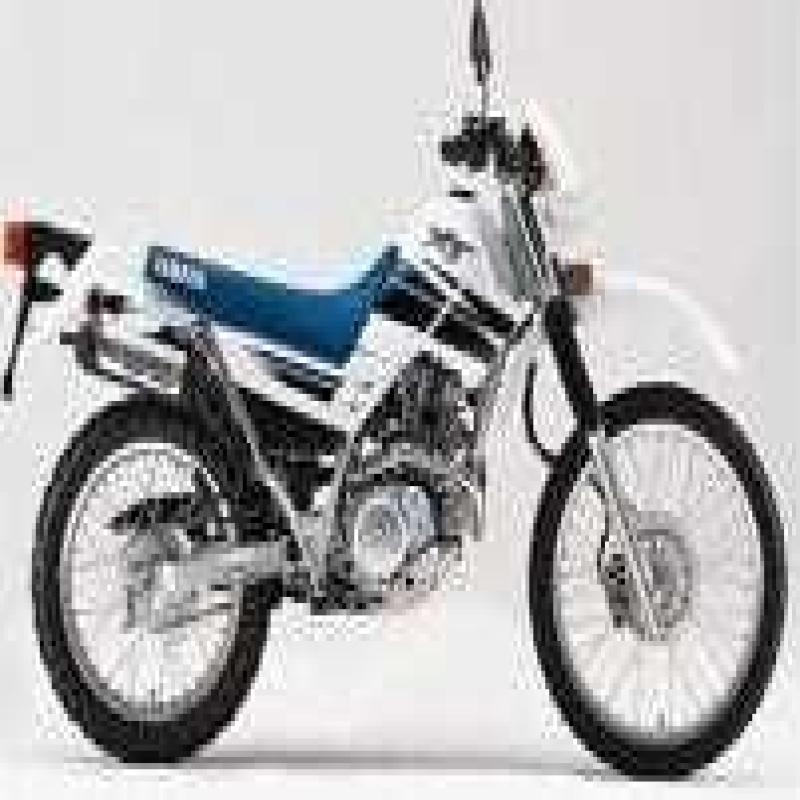bike: (0, 6, 776, 800)
